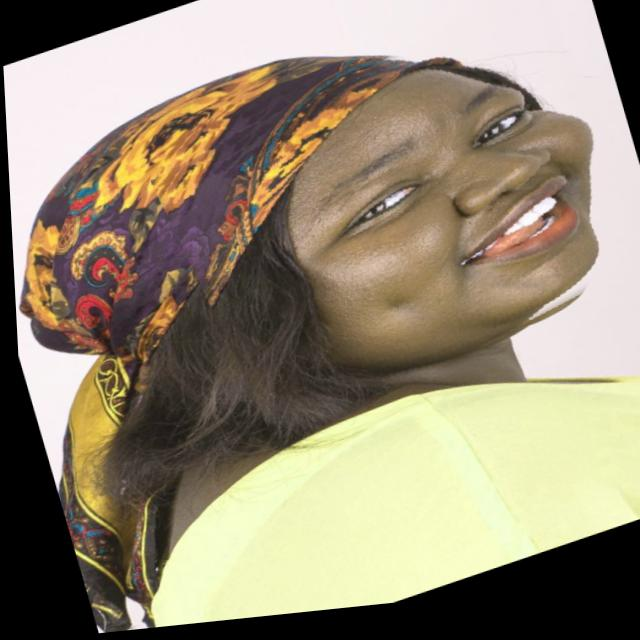happy: (141, 0, 640, 458)
